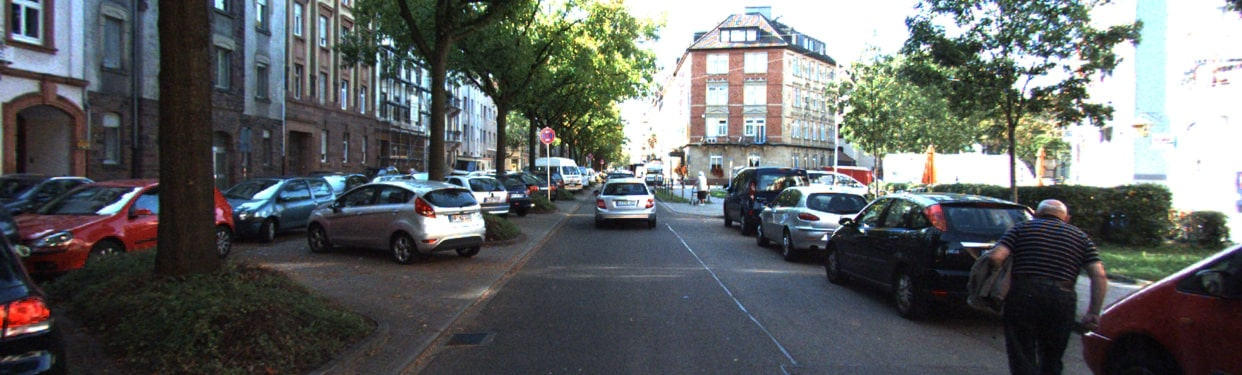car: (814, 199, 1027, 305), (20, 190, 237, 279), (1093, 244, 1242, 373), (298, 177, 480, 266), (757, 182, 863, 256), (234, 171, 329, 241), (720, 163, 797, 237), (594, 179, 650, 232)
person: (977, 194, 1089, 375), (693, 169, 714, 215)
